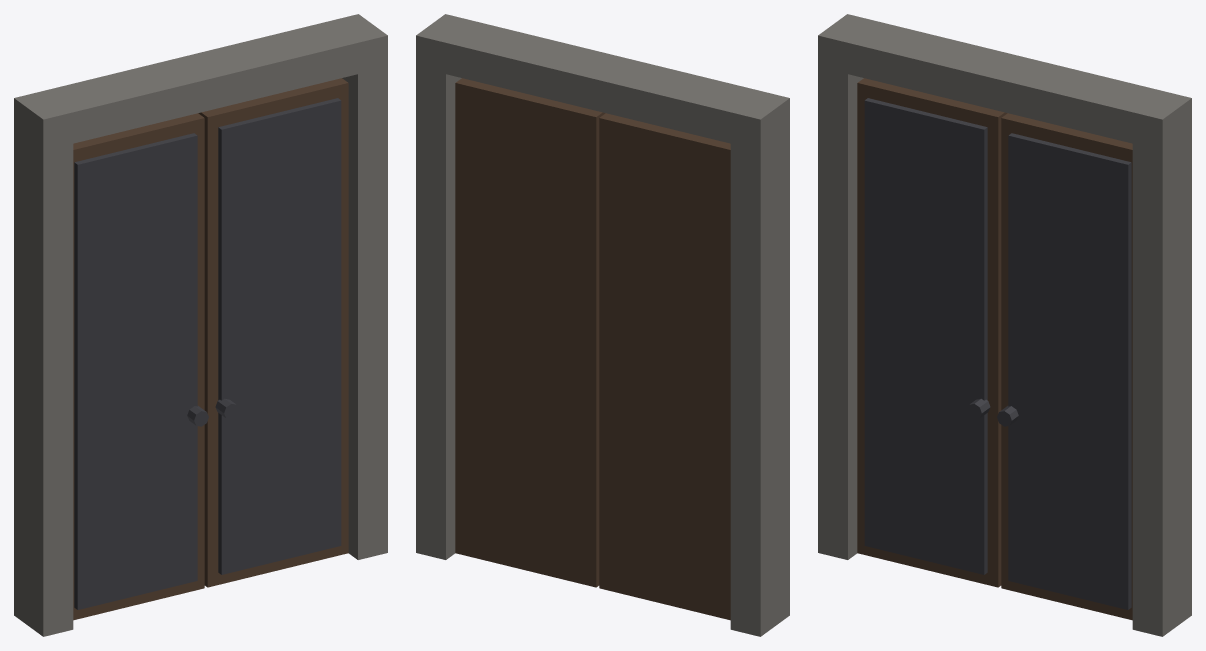
File: PortaSaida.fbx
The picture shows the model from 3 angles, left to right: view 1: azimuth 30°, elevation 25°; view 2: azimuth 150°, elevation 25°; view 3: azimuth 330°, elevation 25°; orthographic projection.
Parts seen in each view (by area): view 1: PortaSaida; view 2: PortaSaida; view 3: PortaSaida.
Boxes of the visible parts, x1,y1,x2,y2 form: PortaSaida: [14, 14, 387, 636]; PortaSaida: [416, 14, 789, 636]; PortaSaida: [818, 14, 1191, 636].
Bounding box in the file's own units: 230 × 330 × 35.
